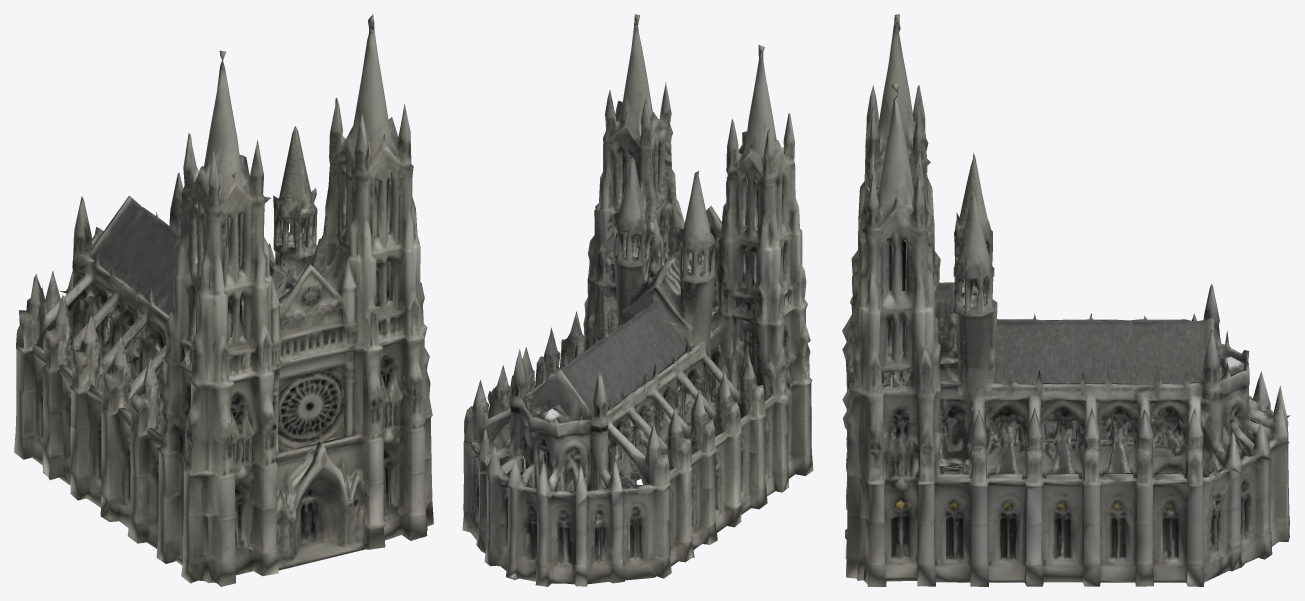
The model's file is Meshy_AI_Gothic_Cathedral_1016063629_texture.fbx.
3 renders of one model, left to right at view 1: azimuth 30°, elevation 25°; view 2: azimuth 150°, elevation 25°; view 3: azimuth 270°, elevation 25°, orthographic. The views are drawn at different scales.
Visible parts, largest first — view 1: Mesh1.0; view 2: Mesh1.0; view 3: Mesh1.0.
Part boxes in pixels (x1,y1,x2,y2): Mesh1.0: (14,14,433,586); Mesh1.0: (462,14,813,586); Mesh1.0: (842,14,1290,586).
Bounding box in the file's own units: 99.16 × 199 × 167.
1 material, 1 textured.
